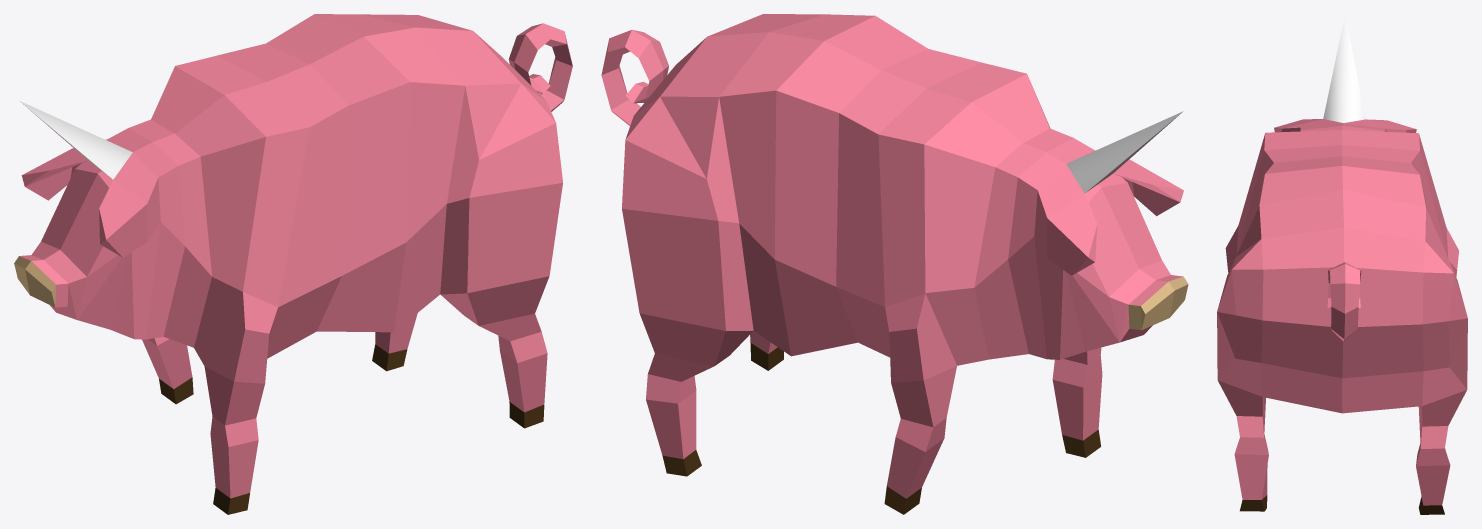
The model's file is pigWalking9.obj.
3 views of the same model, side by side, from view 1: azimuth 30°, elevation 25°; view 2: azimuth 150°, elevation 25°; view 3: azimuth 270°, elevation 25° (orthographic). The views are drawn at different scales.
Parts seen in each view (by area): view 1: Pig_Cylinder; view 2: Pig_Cylinder; view 3: Pig_Cylinder.
Part boxes in pixels (x1,y1,x2,y2): Pig_Cylinder: (14, 14, 572, 514); Pig_Cylinder: (601, 14, 1188, 514); Pig_Cylinder: (1217, 14, 1467, 514).
Size of the model in its own units: 23 by 16.11 by 11.11.
